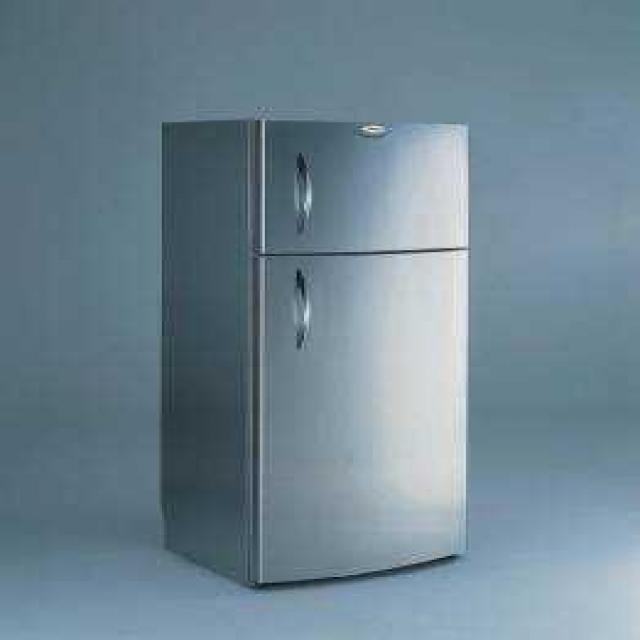refrigerator: (247, 119, 470, 587)
